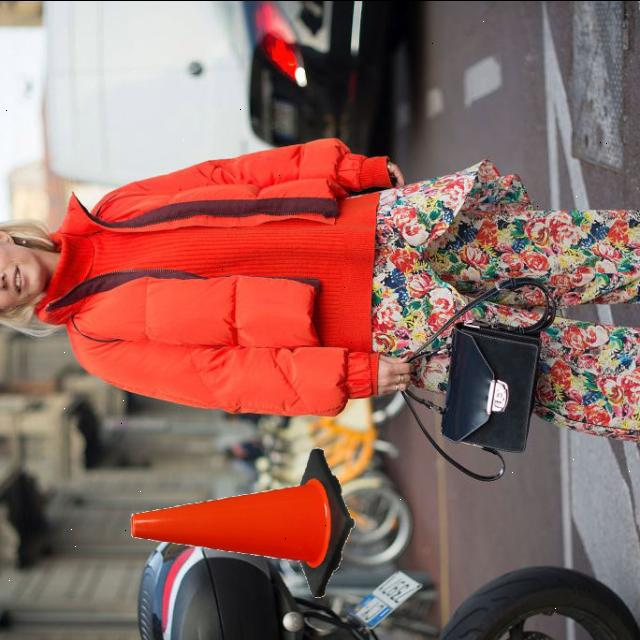traffic cone: (127, 437, 361, 605)
